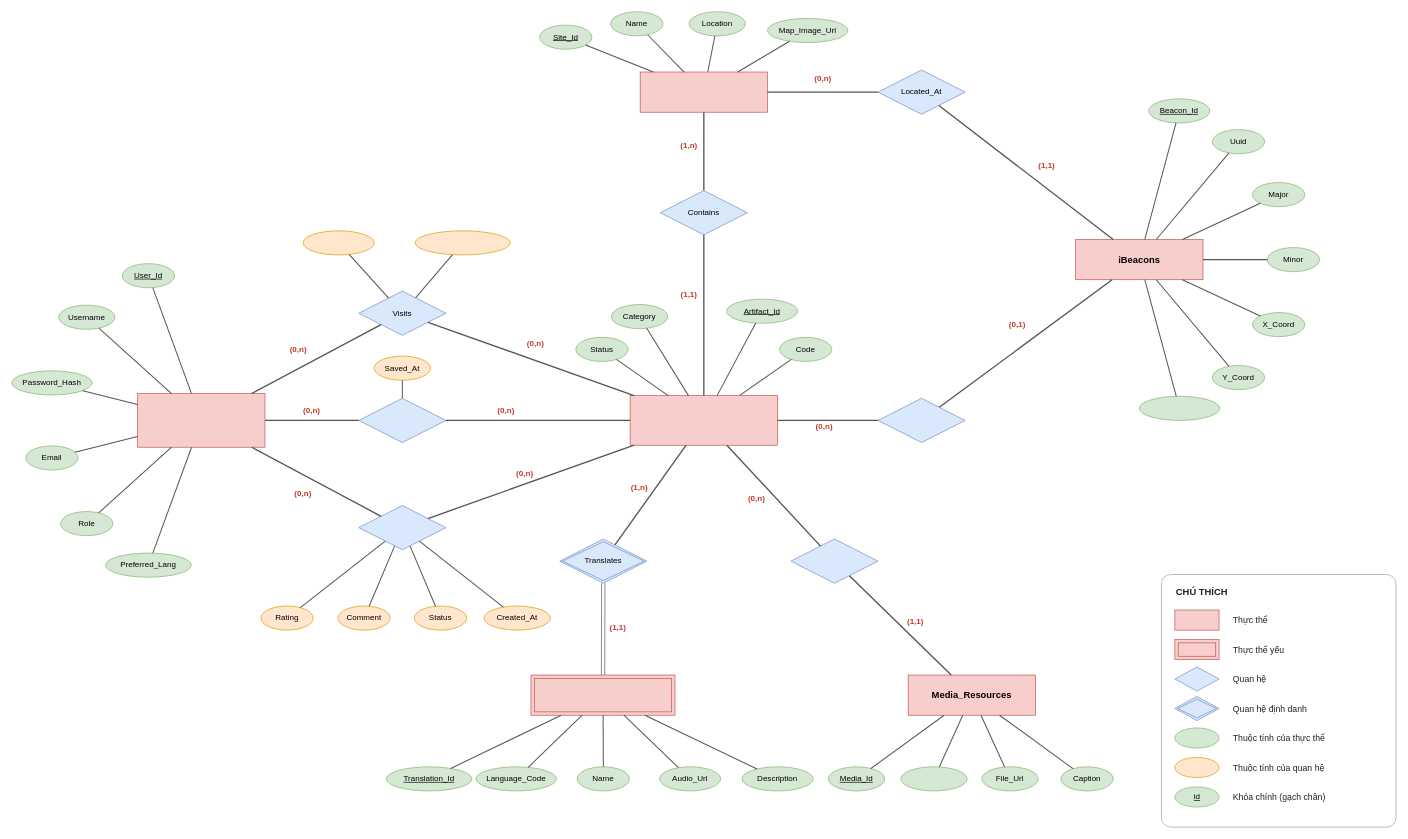
Some shapes in this 1408 by 839 pixel diagram are drawn without their labels. Here are the shapes that lost their labels. From the top down, the centre of each, then its label:
the point at 703,91: Heritage_Sites
the point at 338,242: Detected_At
the point at 462,242: Duration_Seconds
the point at 201,420: Users
the point at 402,420: Likes
the point at 703,420: Artifacts
the point at 921,420: Assigned_To
the point at 1179,408: Battery_Level
the point at 402,527: Feedbacks
the point at 834,560: Has
the point at 602,694: Artifact_Translations
the point at 933,778: Media_Type
